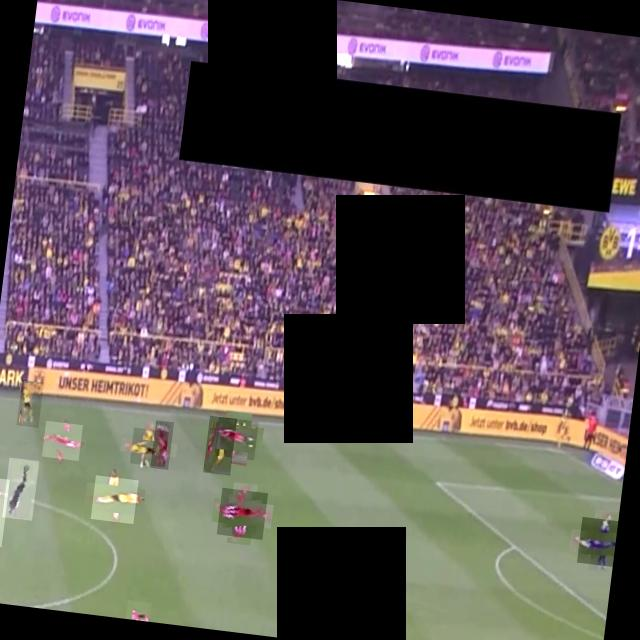referee: (1, 457, 38, 520)
soccer-player: (216, 488, 268, 540), (90, 474, 138, 524), (576, 516, 618, 566), (202, 415, 236, 475), (214, 416, 258, 460), (42, 420, 82, 460), (129, 427, 168, 467), (16, 379, 43, 427), (150, 420, 173, 470), (0, 476, 9, 547), (125, 600, 151, 622)
